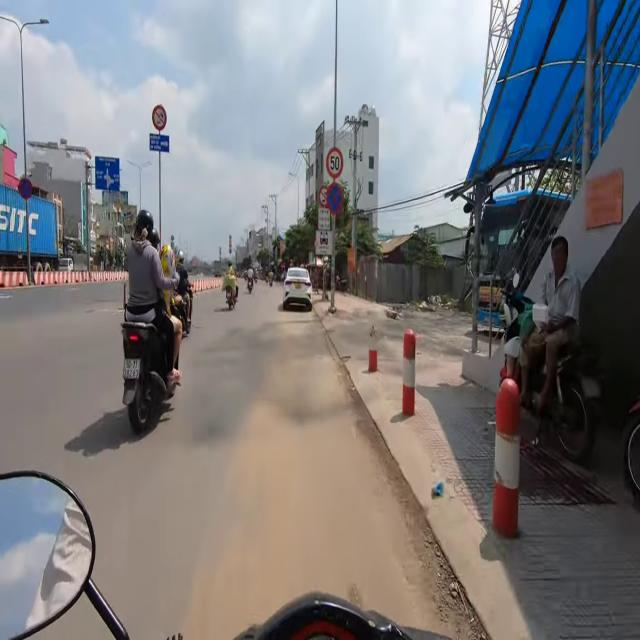bien_trang: (122, 354, 141, 380)
